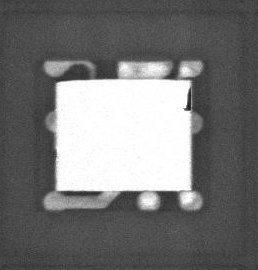DIE_BROKEN: (182, 86, 192, 112)
